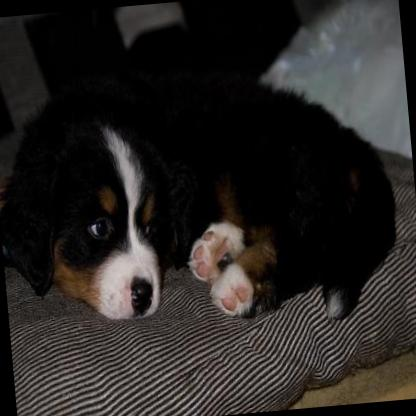Bernese_mountain_dog: (0, 44, 404, 348)
